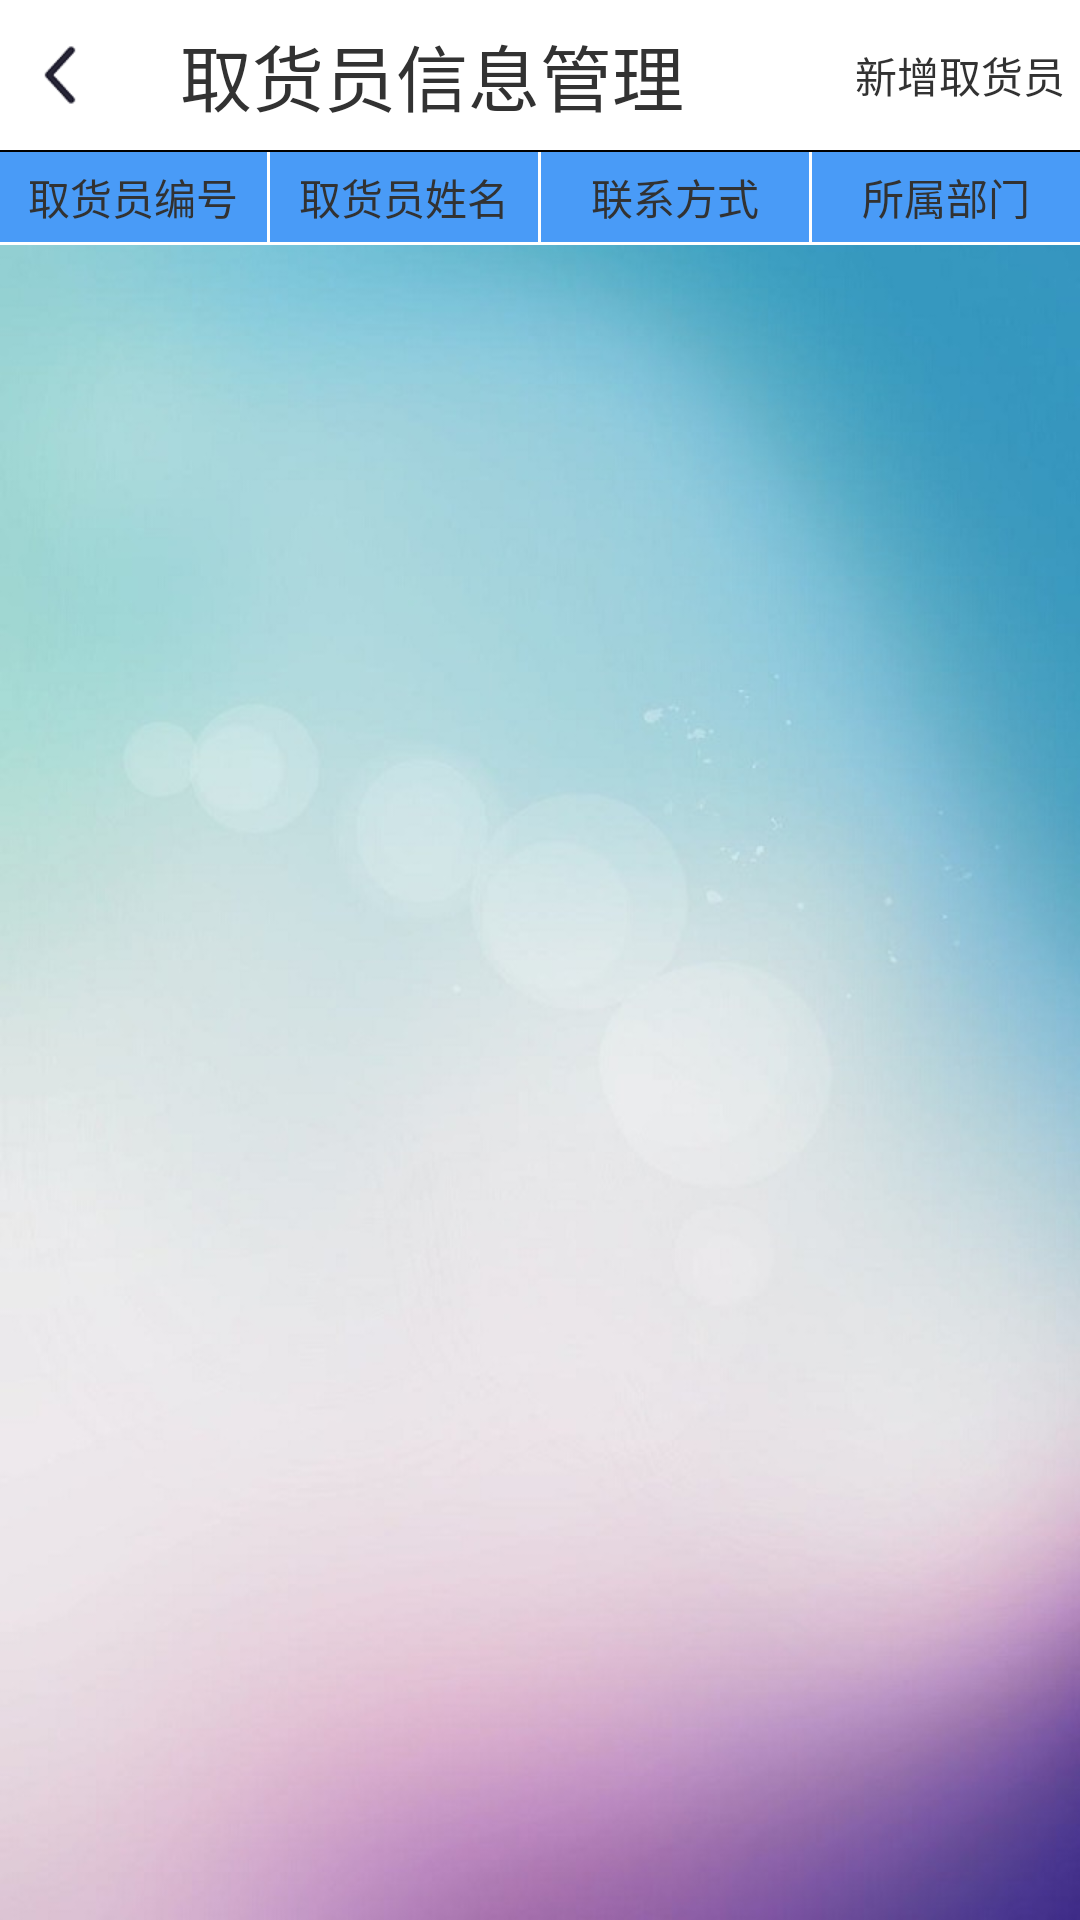

Icon bounding boxes for this 1080w x 1920h phone screenshot, format (x1, y1, x2, y2):
arrow back: (44, 46, 76, 104)
